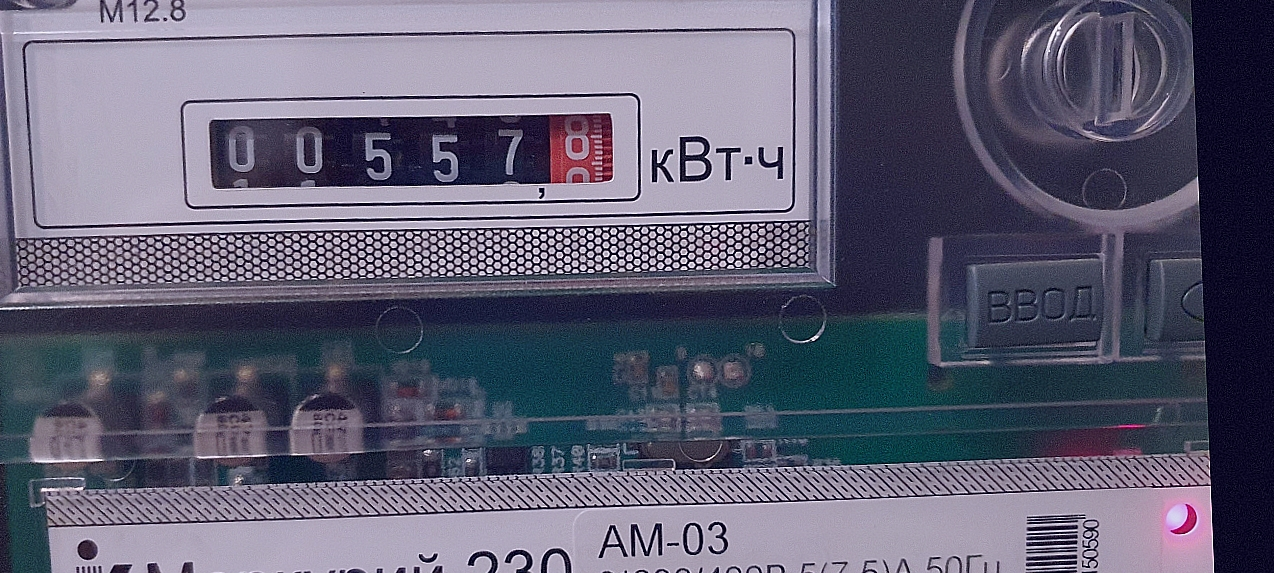0: (221, 119, 258, 176), (290, 122, 325, 175)
5: (424, 125, 464, 185), (358, 126, 395, 183)
7: (490, 122, 525, 178)
8: (561, 112, 591, 163)
screen: (174, 73, 647, 224)
